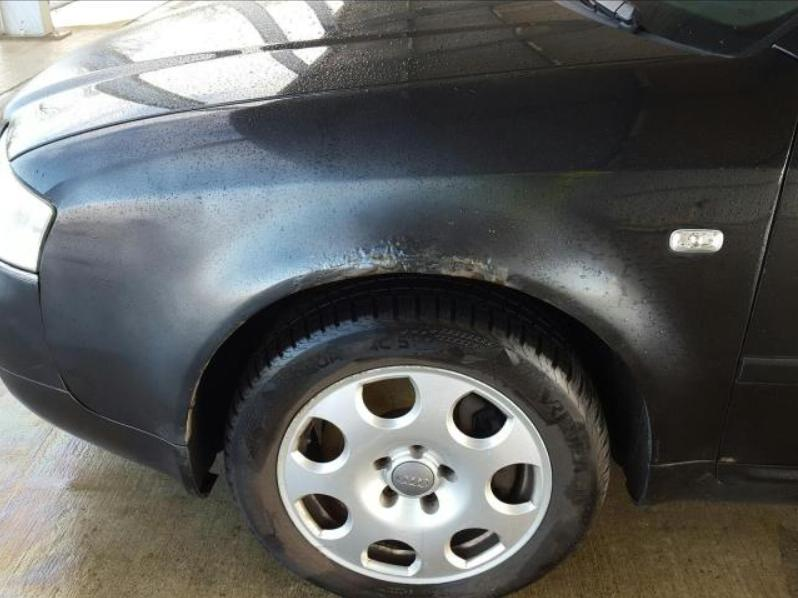Corrosion: (291, 238, 513, 293)
Dent: (690, 470, 728, 491)
Scratch: (183, 321, 245, 441), (157, 425, 190, 469), (643, 402, 653, 468), (720, 457, 737, 462)
